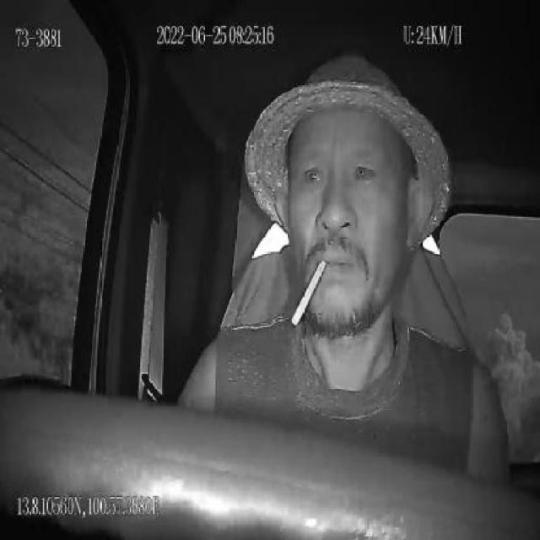smoking: (289, 258, 328, 330)
